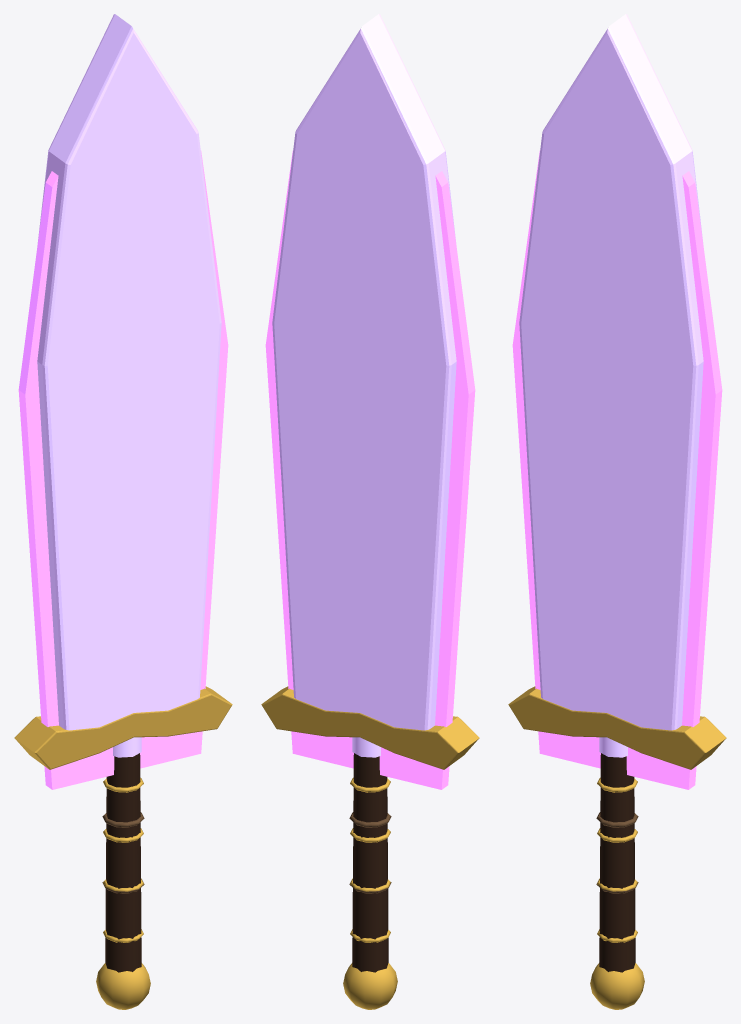
The model's file is greatsword_f0_7fffee1c.glb.
3 renders of one model, left to right at view 1: azimuth 30°, elevation 25°; view 2: azimuth 150°, elevation 25°; view 3: azimuth 330°, elevation 25°, orthographic.
Parts seen in each view (by area): view 1: m4_ow80_, m0_, m5_ow80_, m2_ow80_; view 2: m4_ow80_, m0_, m5_ow80_, m2_ow80_; view 3: m4_ow80_, m0_, m5_ow80_, m2_ow80_.
Boxes of the visible parts, x1,y1,x2,y2 form: m4_ow80_: (37,14,221,757); m0_: (18,151,228,789); m5_ow80_: (14,686,232,1009); m2_ow80_: (105,753,141,972); m4_ow80_: (272,14,456,757); m0_: (265,151,475,789); m5_ow80_: (261,686,479,1009); m2_ow80_: (352,753,388,972); m4_ow80_: (519,14,703,757); m0_: (512,151,722,789); m5_ow80_: (508,686,726,1009); m2_ow80_: (599,753,635,972).
Bounding box in the file's own units: 0.708 × 3.29 × 0.1583.
